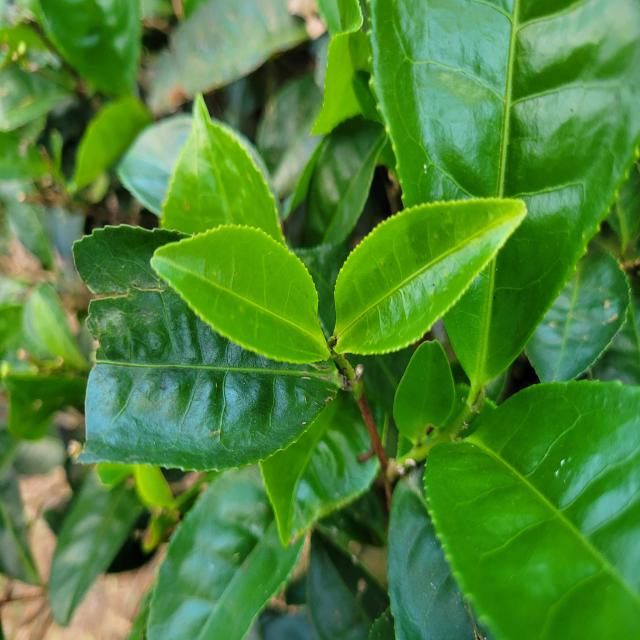Catagory A(1-2 days): (324, 165, 541, 377)
